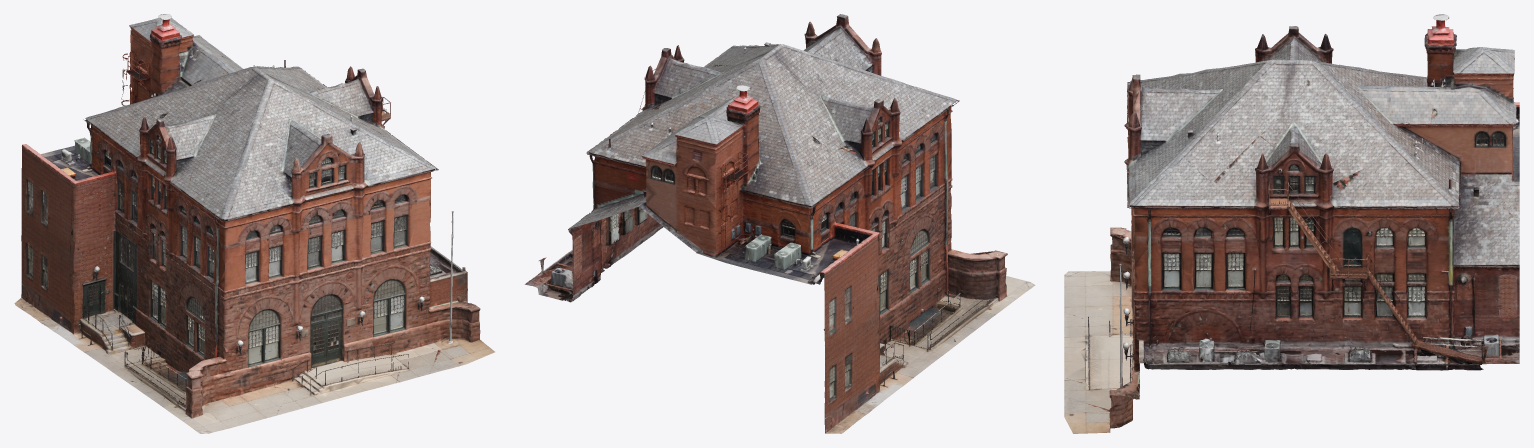
The picture shows the model from 3 angles, left to right: view 1: azimuth 30°, elevation 25°; view 2: azimuth 150°, elevation 25°; view 3: azimuth 270°, elevation 25°; orthographic projection. The views are drawn at different scales.
Visible parts, largest first — view 1: pd; view 2: pd; view 3: pd.
Part boxes in pixels (left/top/right/bottom): pd: left=14, top=14, right=494, bottom=433; pd: left=525, top=14, right=1035, bottom=433; pd: left=1064, top=14, right=1519, bottom=433.
Bounding box in the file's own units: 19.4 × 17.45 × 21.65.
Materials: 1 (1 with a texture image).
